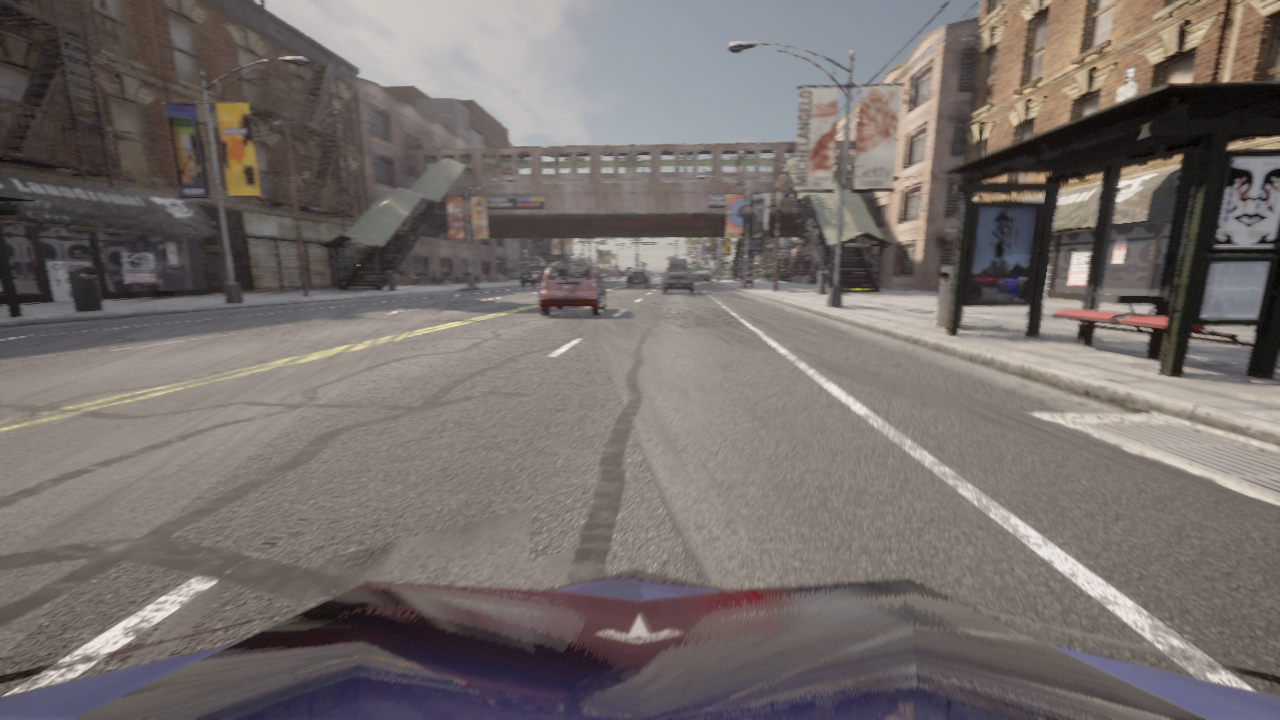cyclist: (0, 569, 1279, 719), (539, 260, 606, 315), (661, 268, 695, 293), (520, 265, 548, 285), (626, 268, 650, 287), (667, 258, 690, 271), (738, 271, 753, 287), (694, 271, 711, 282), (693, 270, 703, 279)
